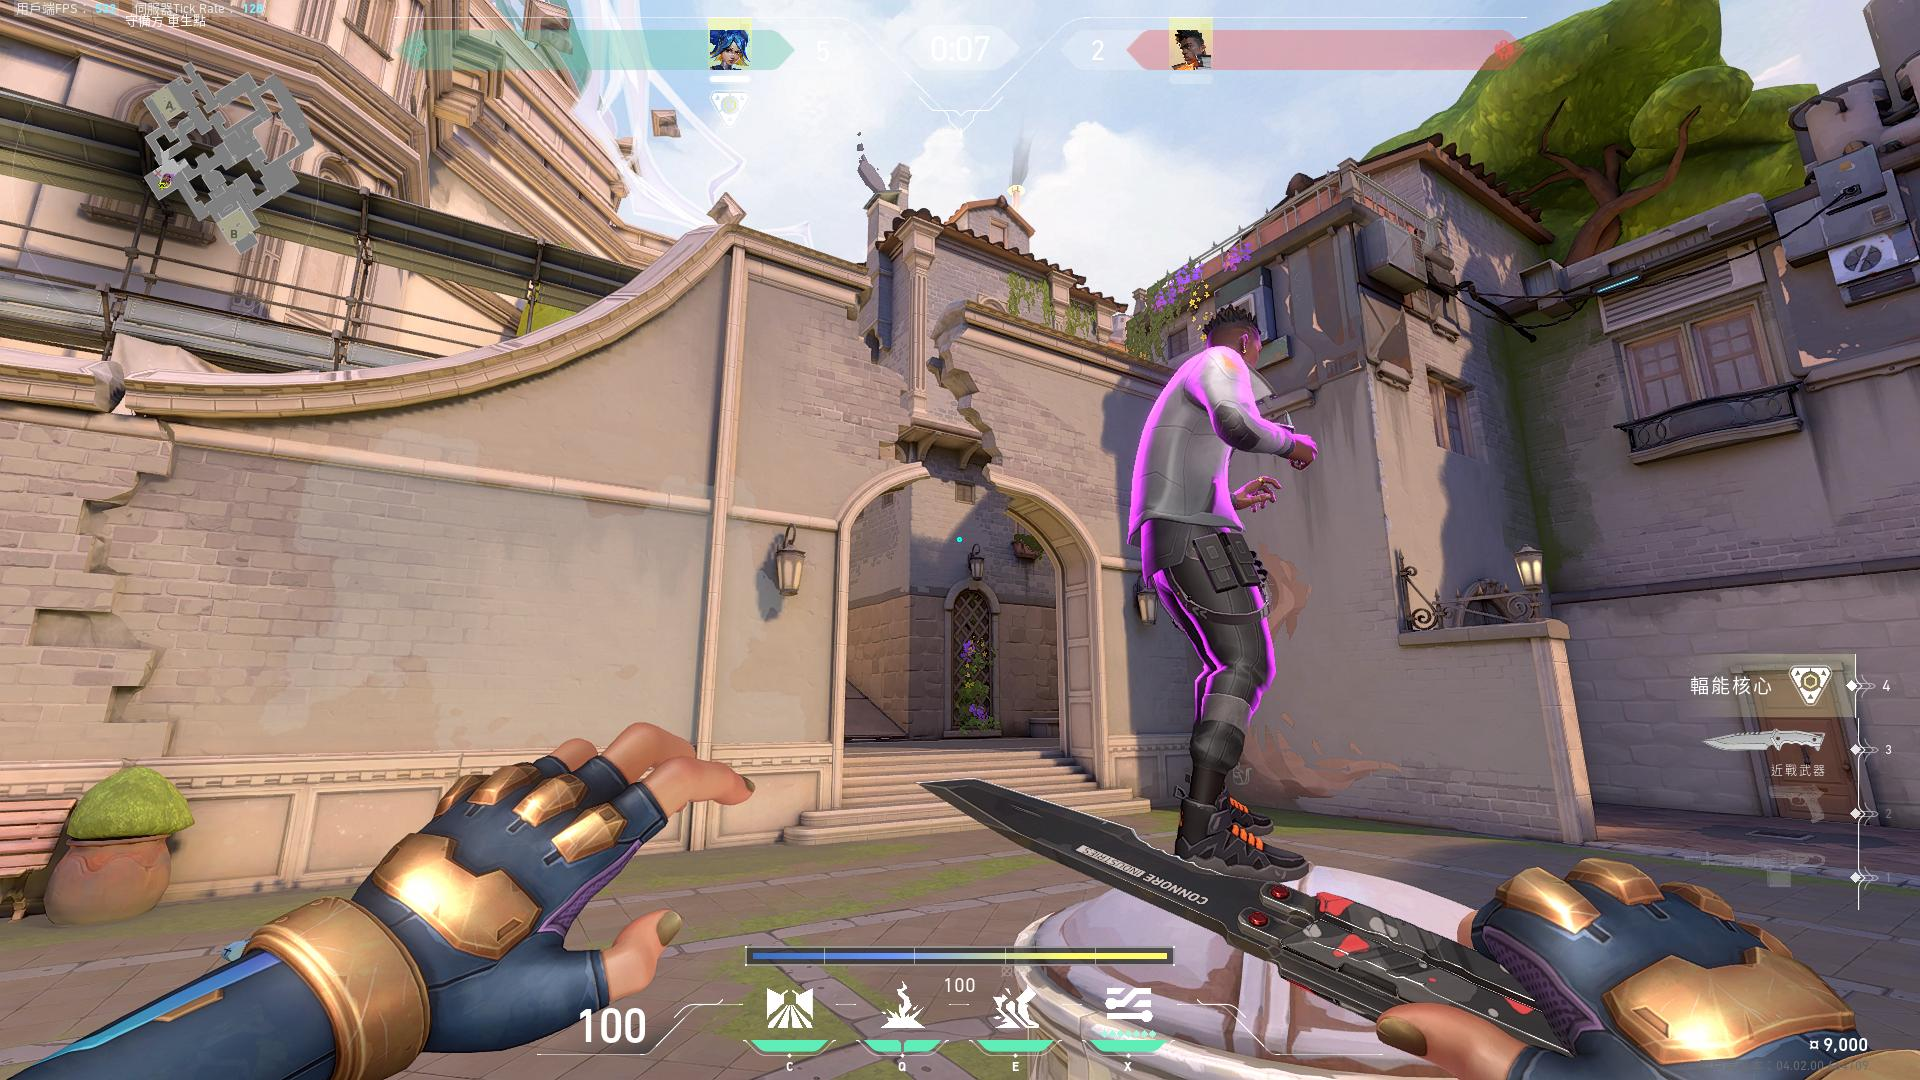enemyBody: (1185, 367, 1228, 531)
enemyHead: (1203, 316, 1261, 363)
